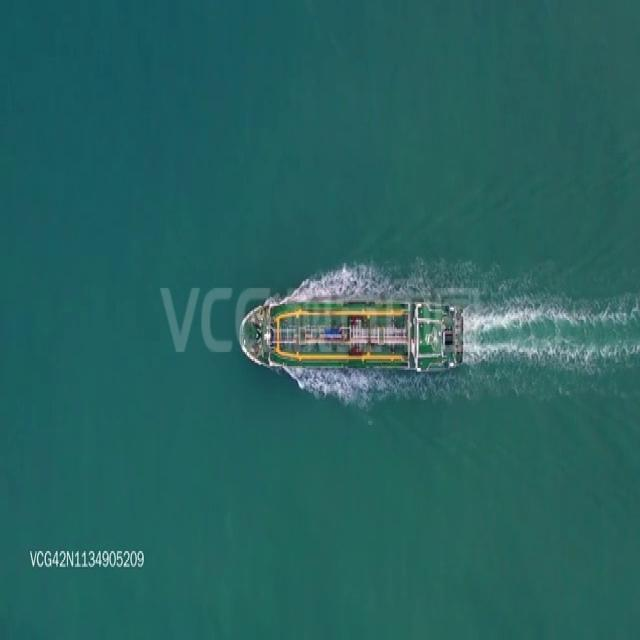houseboat: (239, 297, 468, 377)
